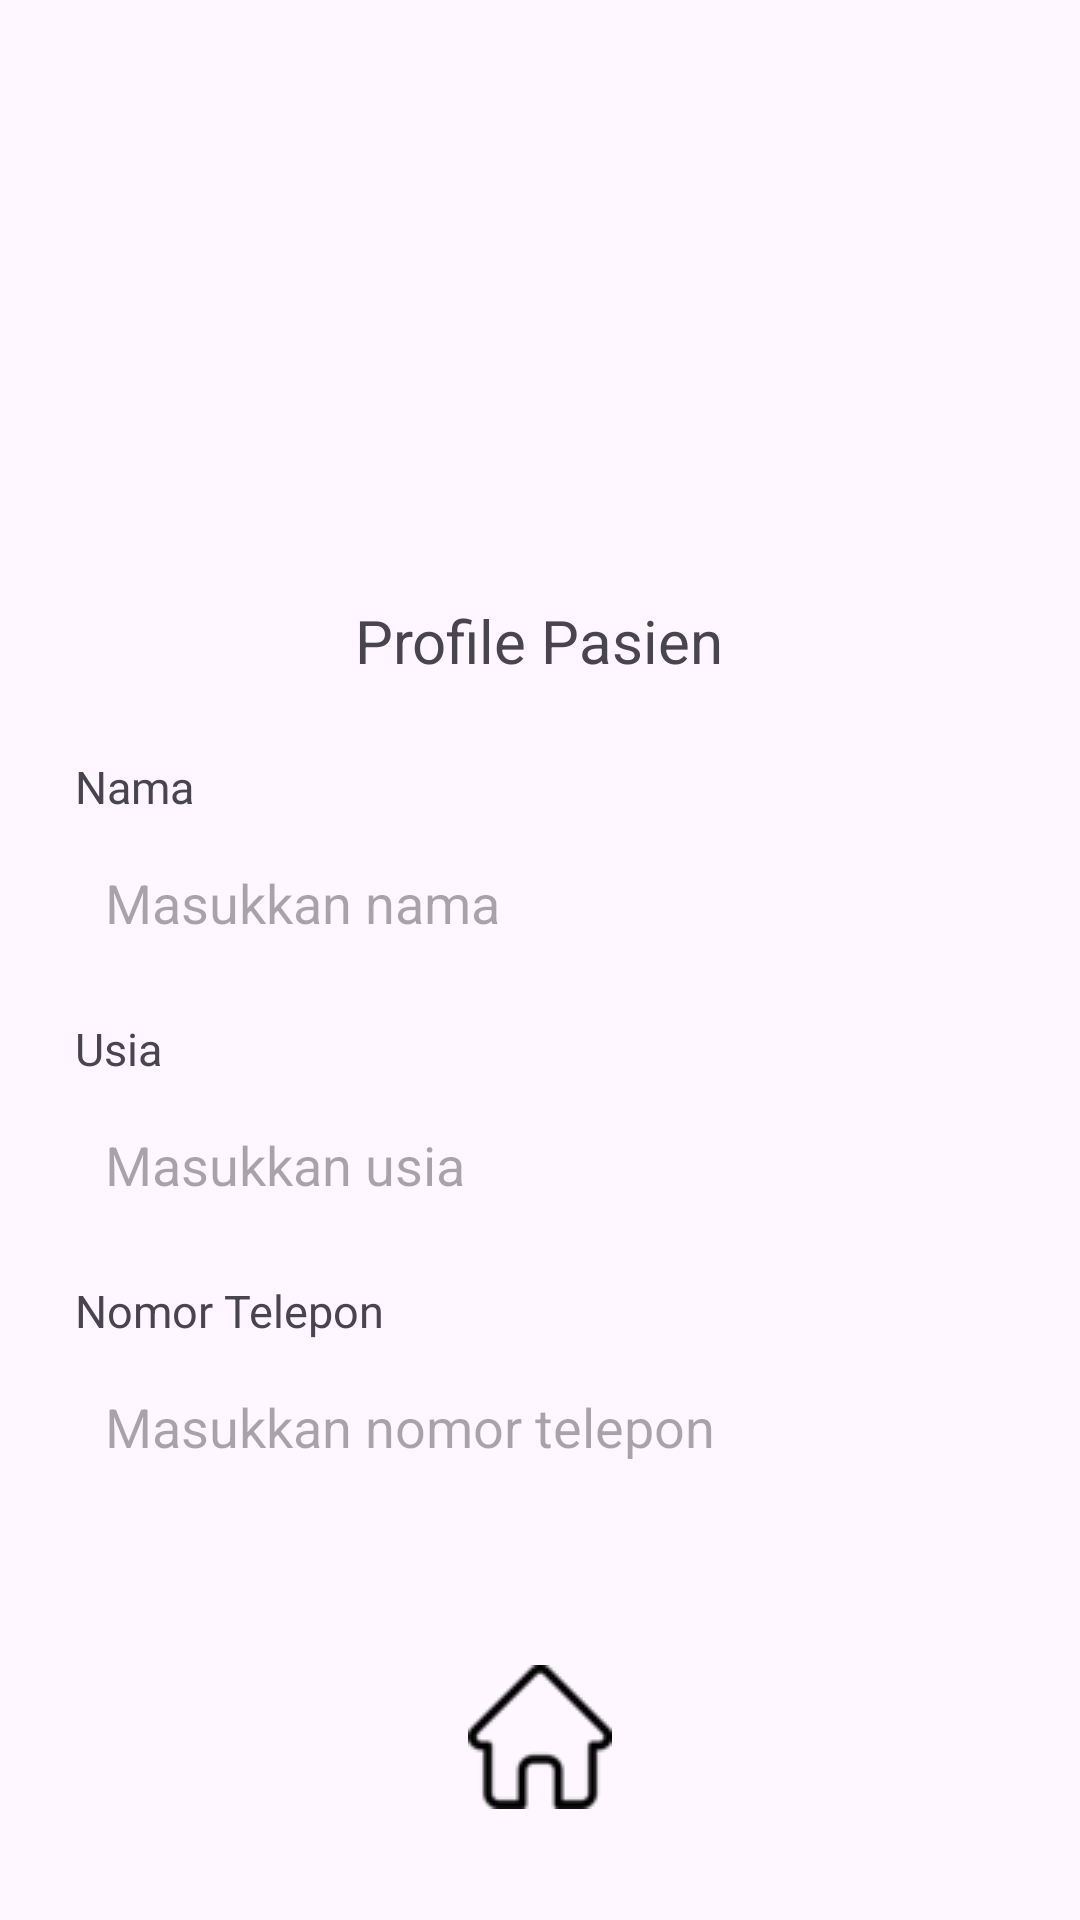

Named icons in this screenshot (1080px×1920px) and their centers, point (x, y):
homee: point (540, 1737)
